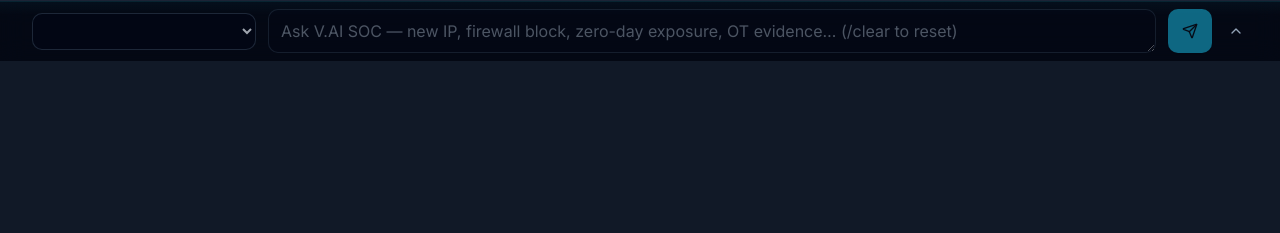
Test: EcCockpitComposer › collapses to one line when an answer is on screen and expands on demand
Check: the text "Investigation command" is not shown
Click the button named "Expand the command bar" at (1236, 31), box [1224,19,1248,43]
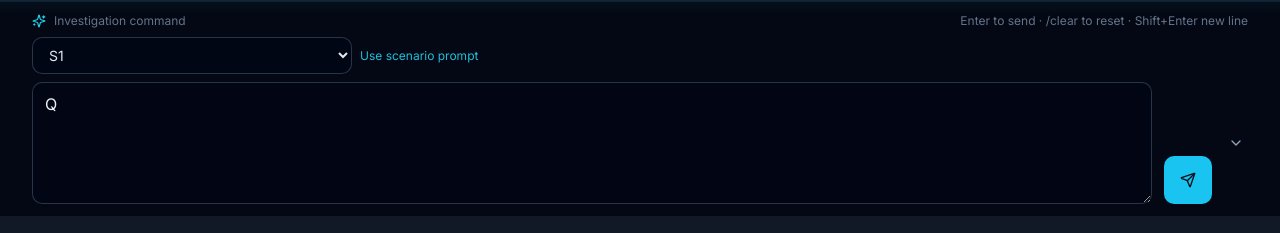
Check: the text "Investigation command" is shown, box [54,13,186,29]
